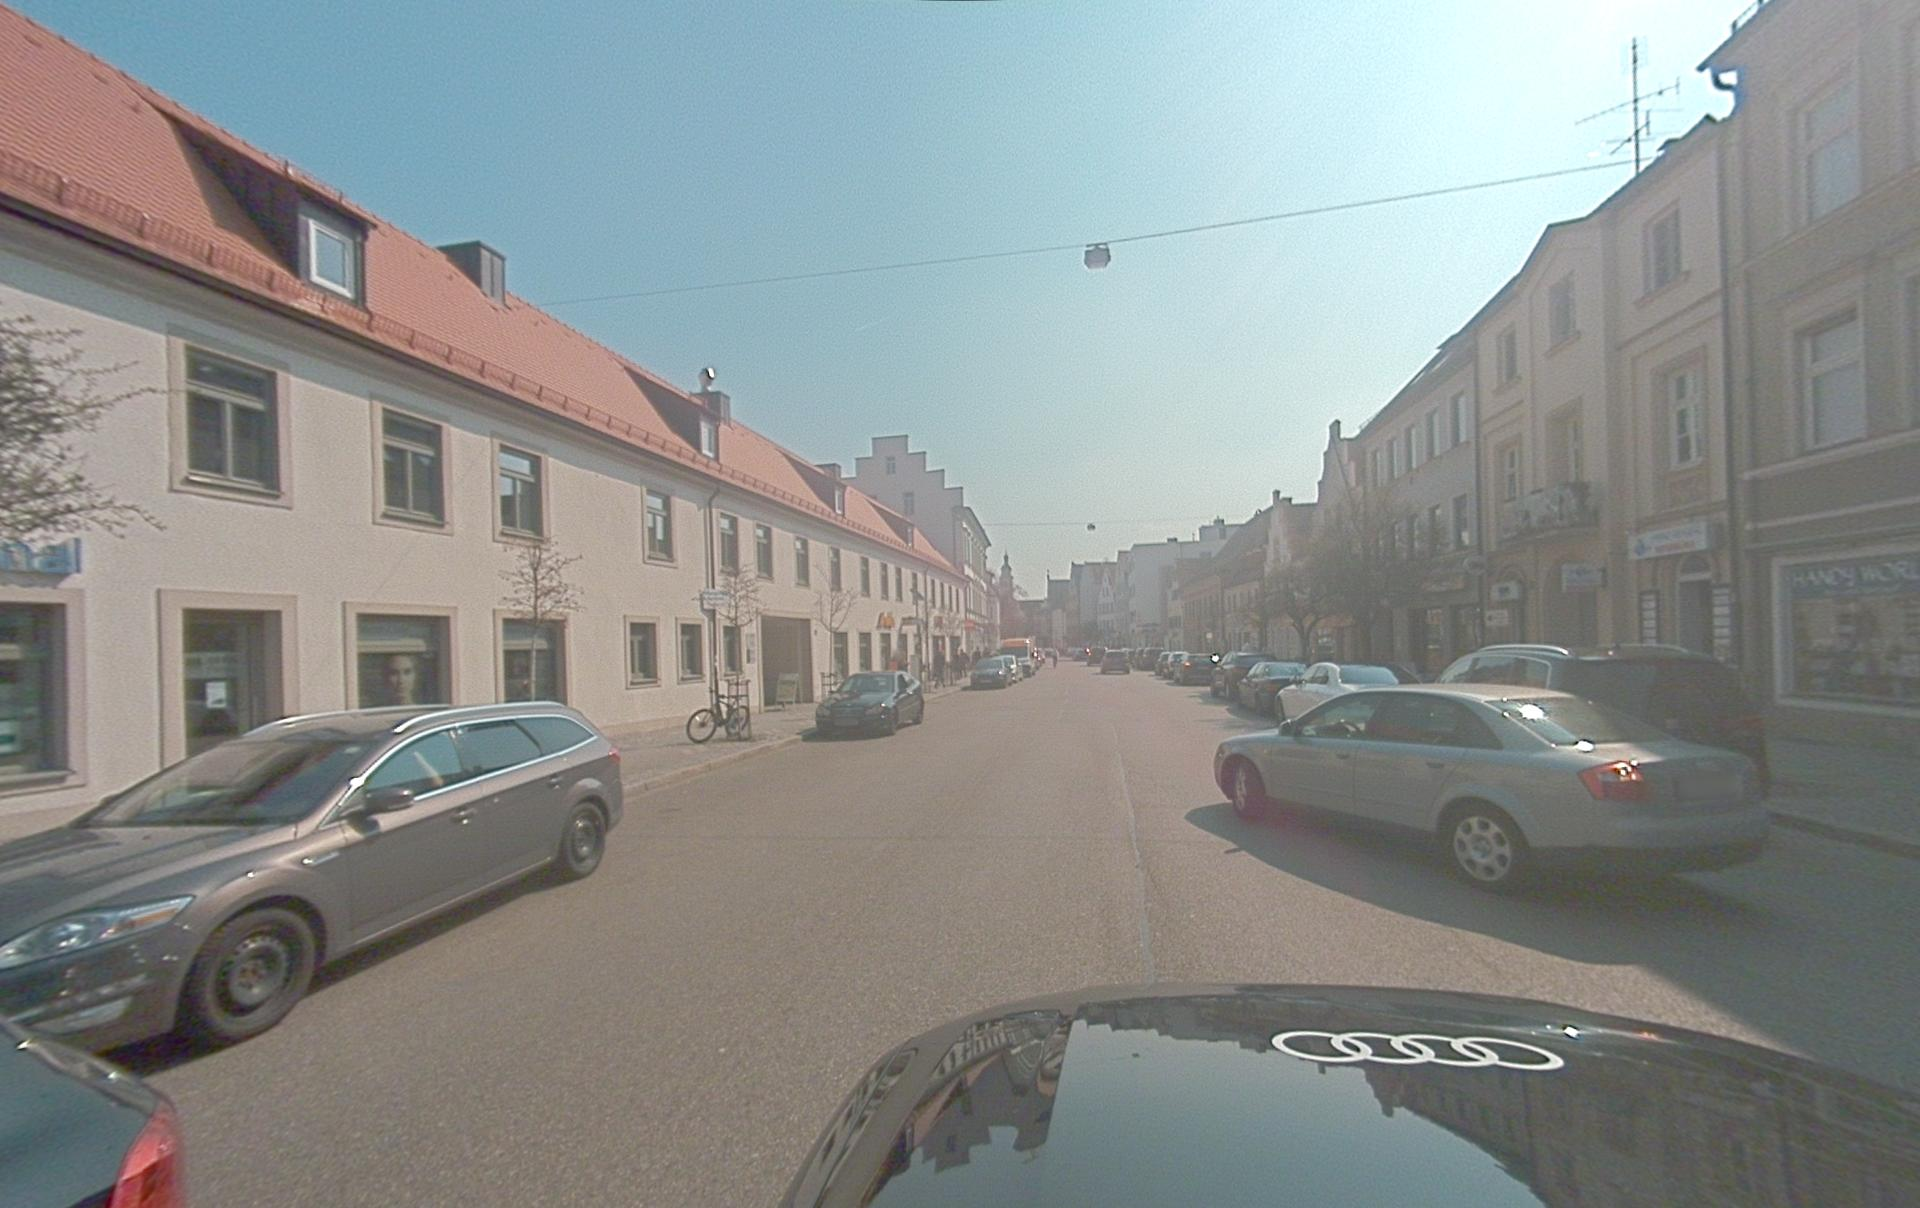car: (778, 981, 1920, 1207), (0, 700, 625, 1054), (1213, 682, 1770, 891), (1434, 642, 1771, 795), (0, 1015, 185, 1207), (815, 669, 925, 738), (1276, 662, 1401, 722), (1436, 644, 1571, 686), (1237, 661, 1308, 715), (1210, 651, 1274, 699), (1174, 653, 1220, 685), (971, 657, 1016, 689), (1155, 651, 1187, 679), (998, 653, 1028, 681), (1102, 650, 1130, 674)
traffic sign: (700, 589, 729, 611)
